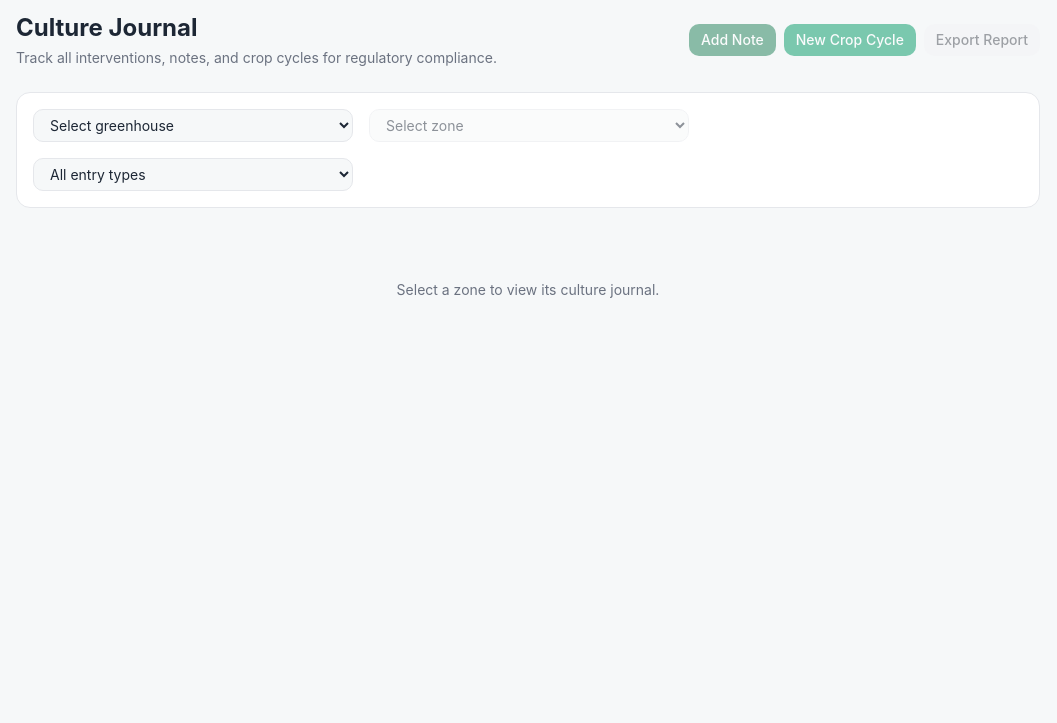
Test case: CultureJournal page › fetches journal entries and crop cycles when a zone is selected
Select "Greenhouse Alpha" in the 1st dropdown at [193, 126], box [33,109,353,142]
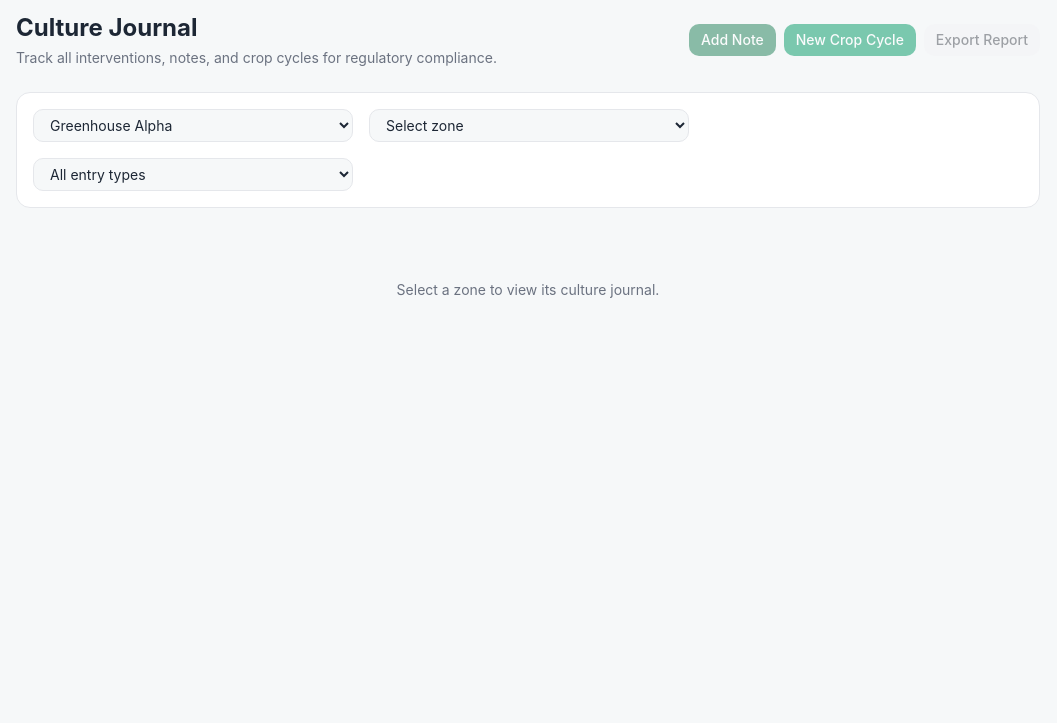
// Select a zone
Select "Zone Tomato" in the 2nd dropdown at [529, 126], box [369,109,689,142]
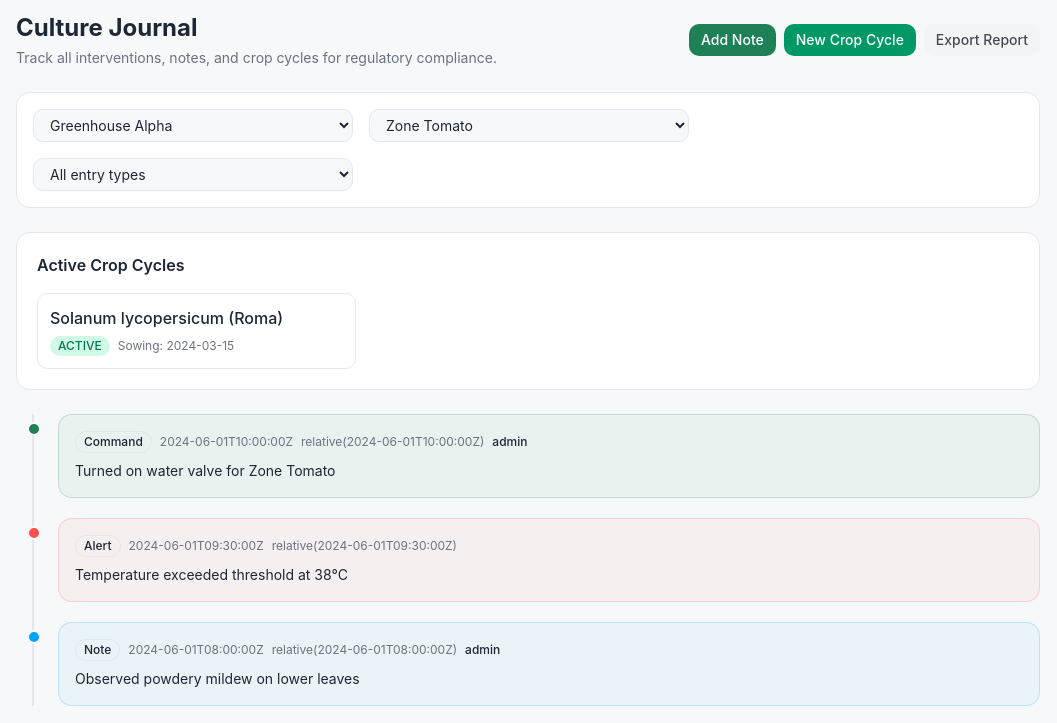
Expected: the text "Turned on water valve for Zone Tomato" is shown, [75,462,336,479]
Expected: the text "Temperature exceeded threshold at 38°C" is shown, [75,566,348,583]
Expected: the text "Observed powdery mildew on lower leaves" is shown, [75,670,360,687]
